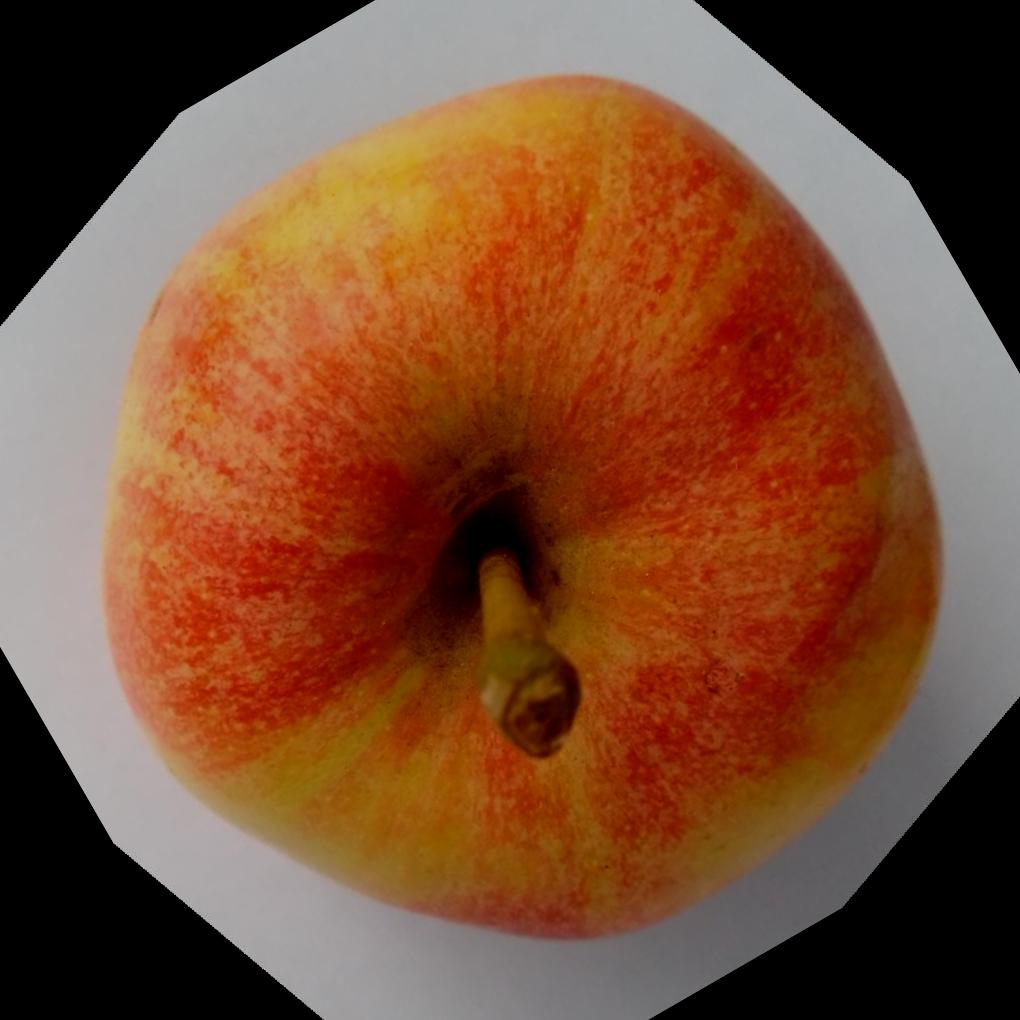FreshGuava: (99, 73, 946, 948)
